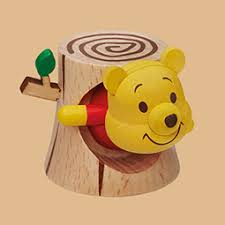Winnie: (93, 56, 199, 156)
